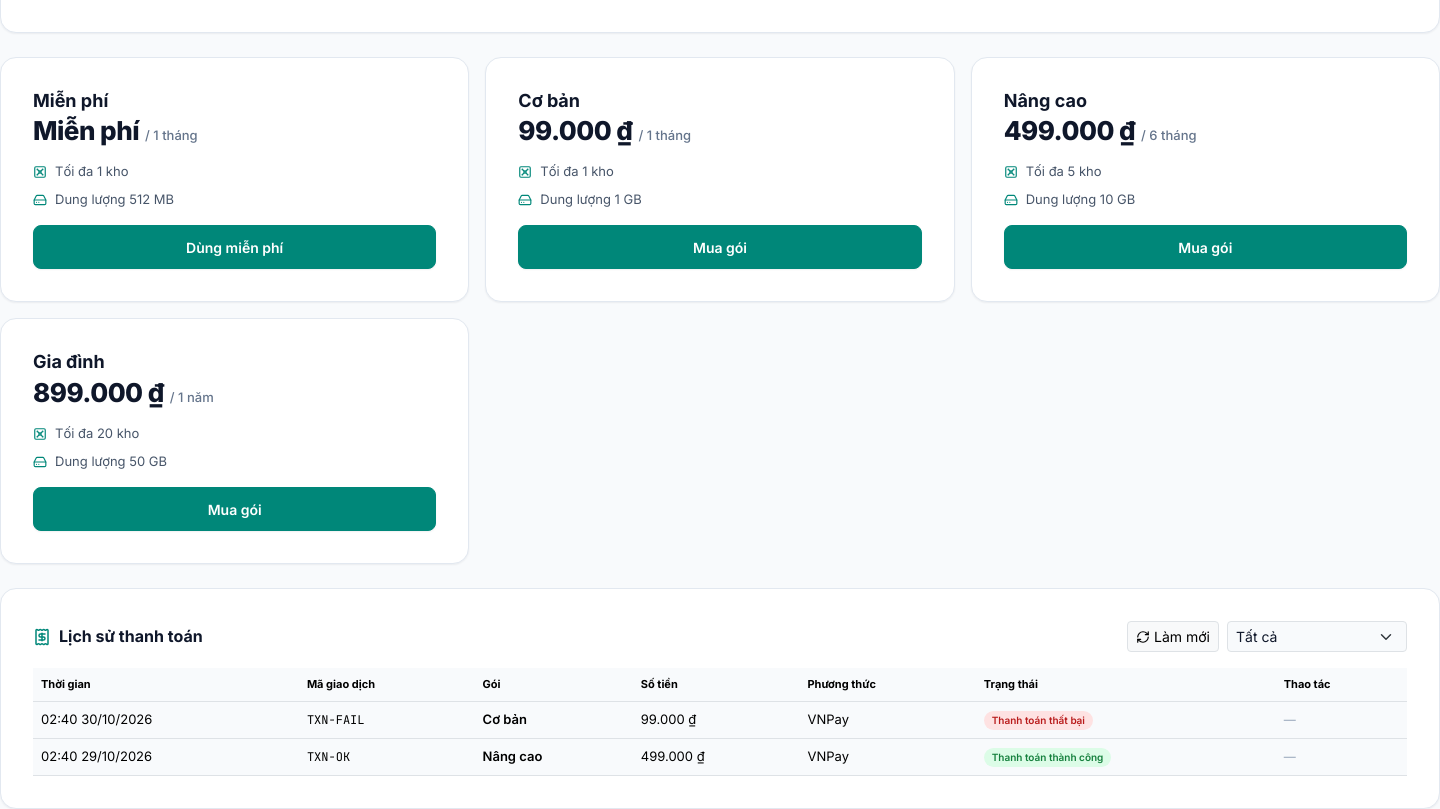
Test: OwnerPlansPage navigation and history › history_WithTransactions_ListsNewestFirstAndFiltersByStatus
(page scrolled)
Check: the row that starts with "TXN-FAIL" is shown, box [307, 712, 364, 728]
Check: the row that starts with "TXN-FAIL" shows "Thanh toán thất bại", box [992, 714, 1085, 726]
Select "Thành công" in the dropdown named "Lọc theo trạng thái giao dịch" at coordinates (1317, 637), box [1227, 621, 1407, 652]
(page scrolled)
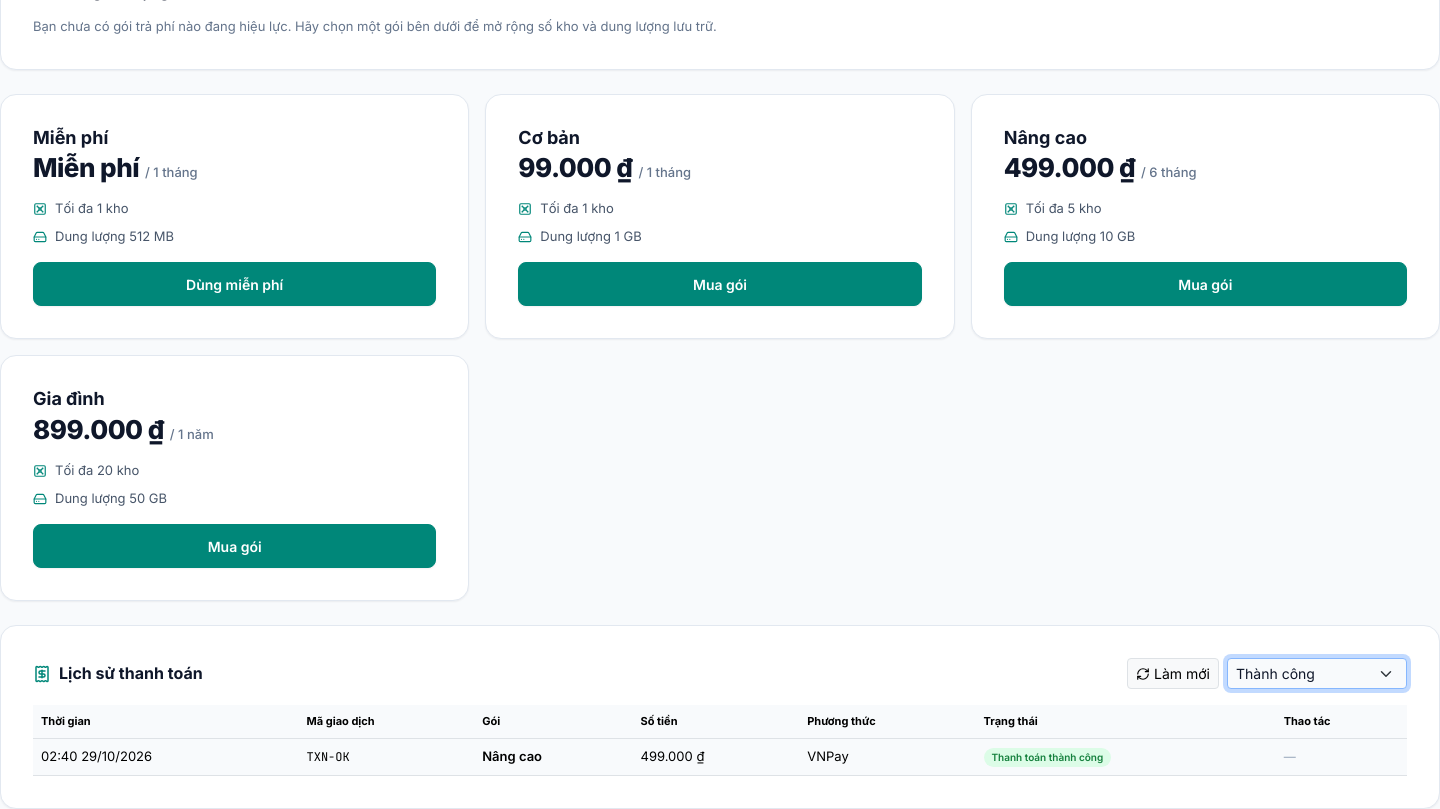
Check: the number of rows is 2, box [33, 705, 1407, 738]; [33, 738, 1407, 775]
Check: the table named "Lịch sử thanh toán" no longer shows "TXN-FAIL", box [33, 705, 1407, 776]
